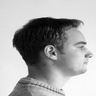ear: (41, 40, 62, 63)
